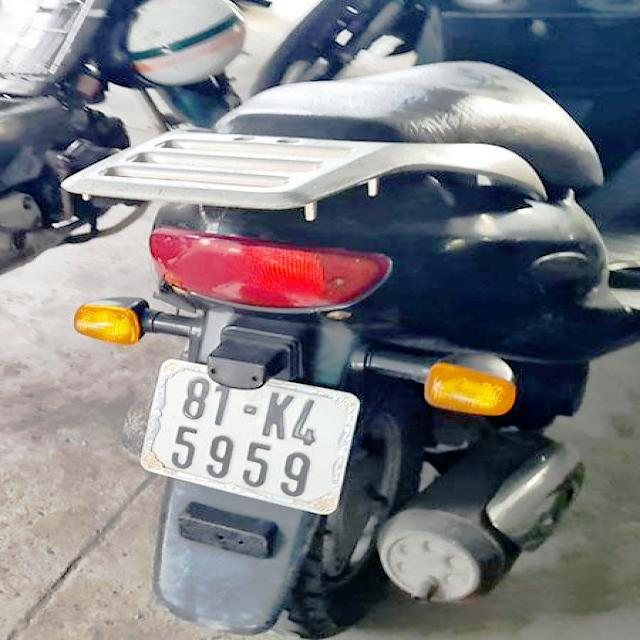license_plate: (136, 364, 361, 515)
